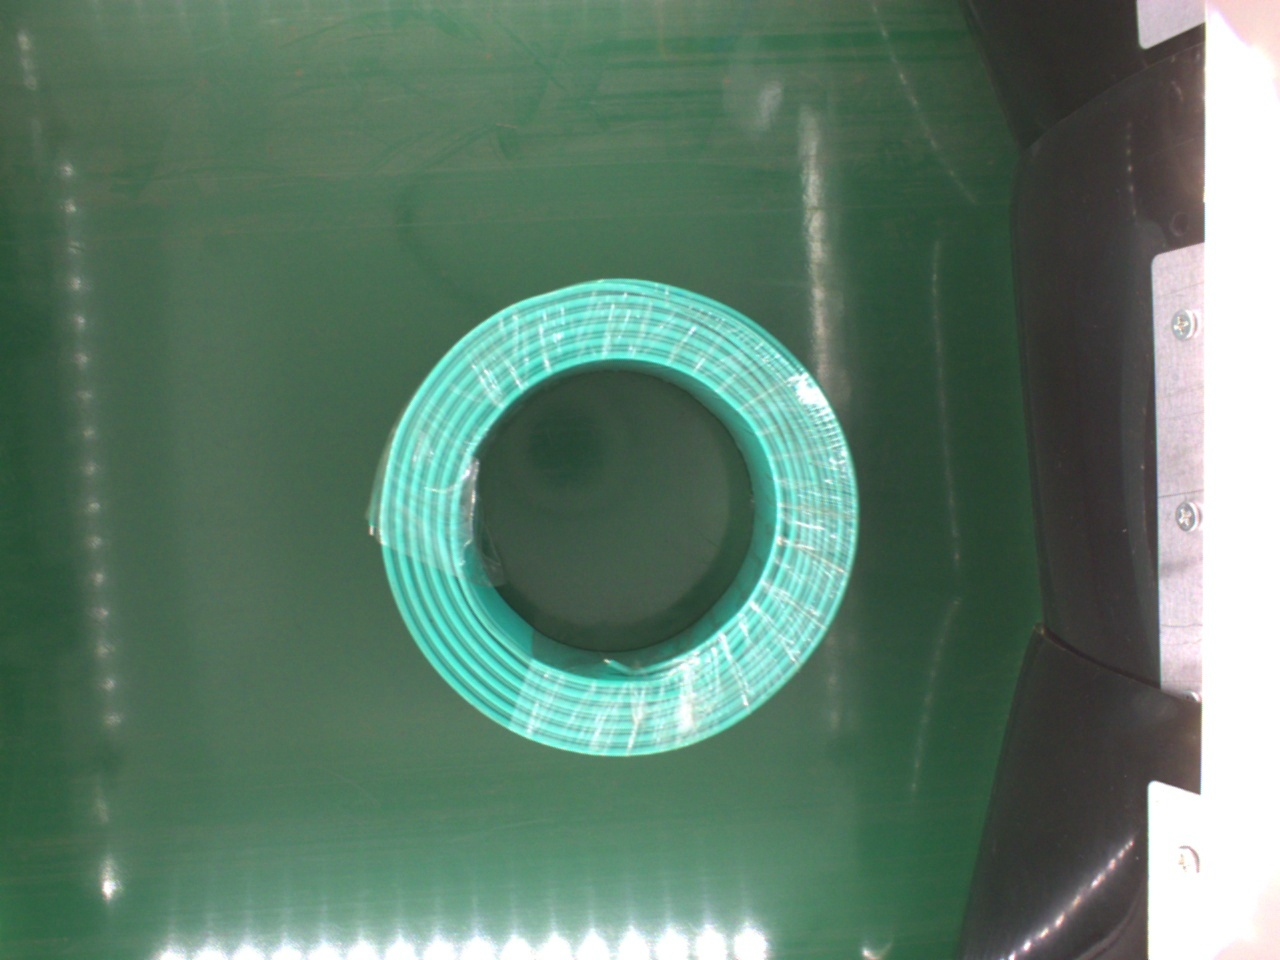green: (372, 275, 859, 761)
